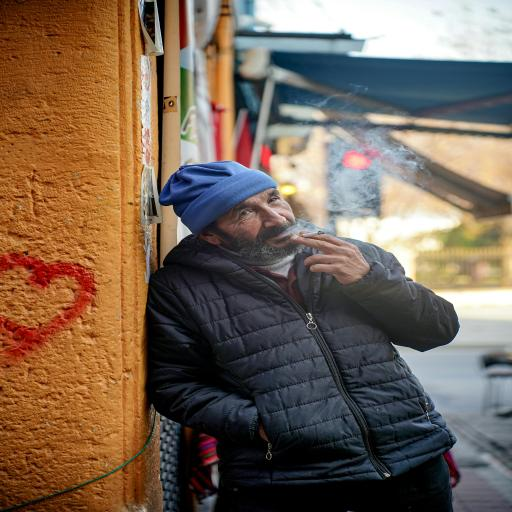terdeteksi pegang rokok: (279, 216, 373, 303)
